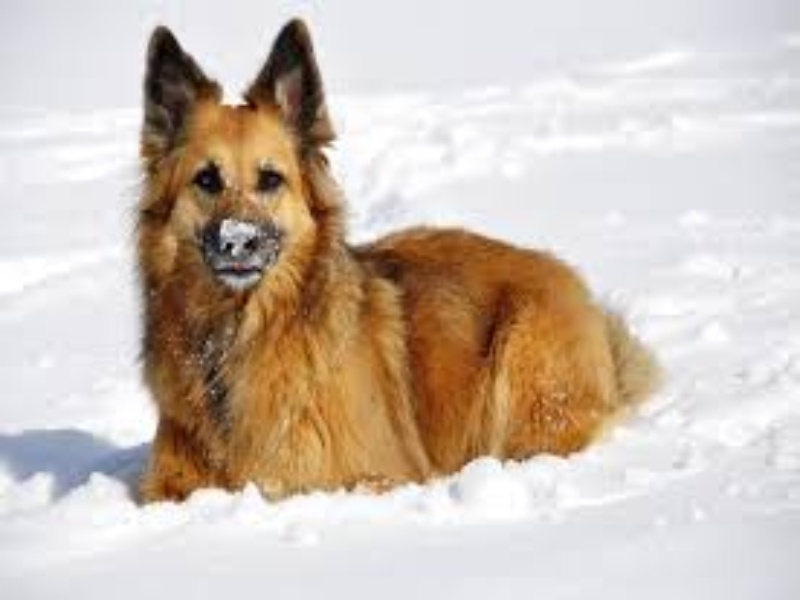dog: (126, 14, 679, 511)
